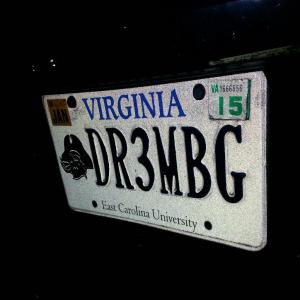Vehicle-registration-plate: (48, 77, 279, 251)
